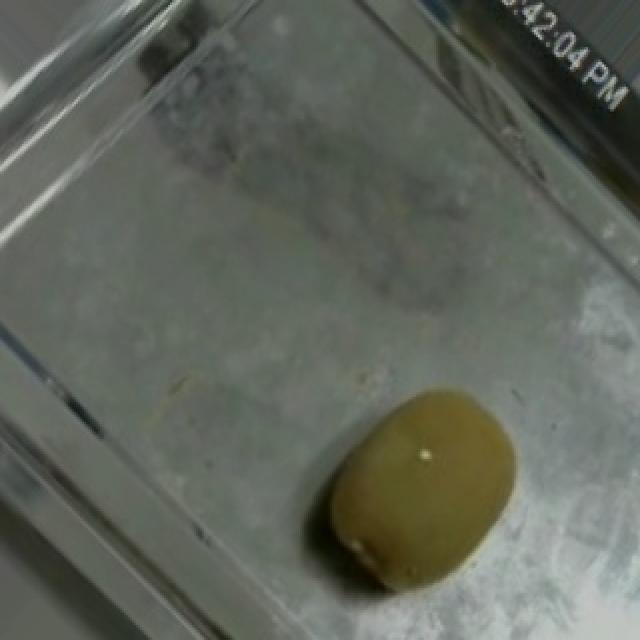Fruit: (286, 352, 556, 628)
